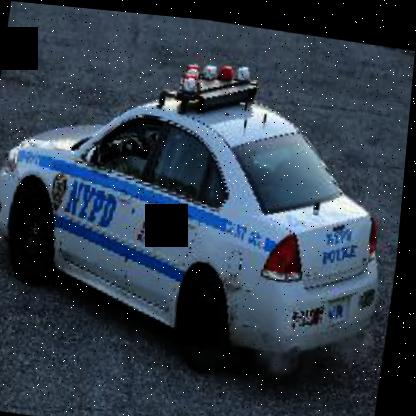emergency: (0, 25, 413, 395)
